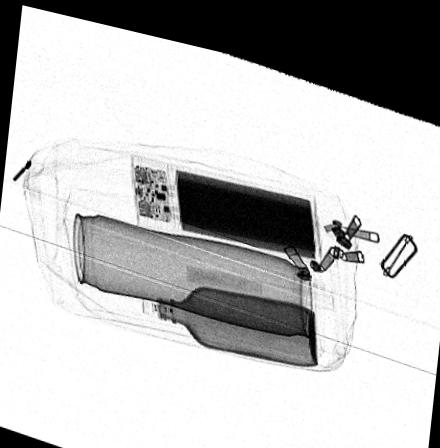Powerbank: (129, 147, 323, 249)
